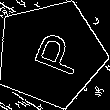P_W: (19, 27, 82, 80)
